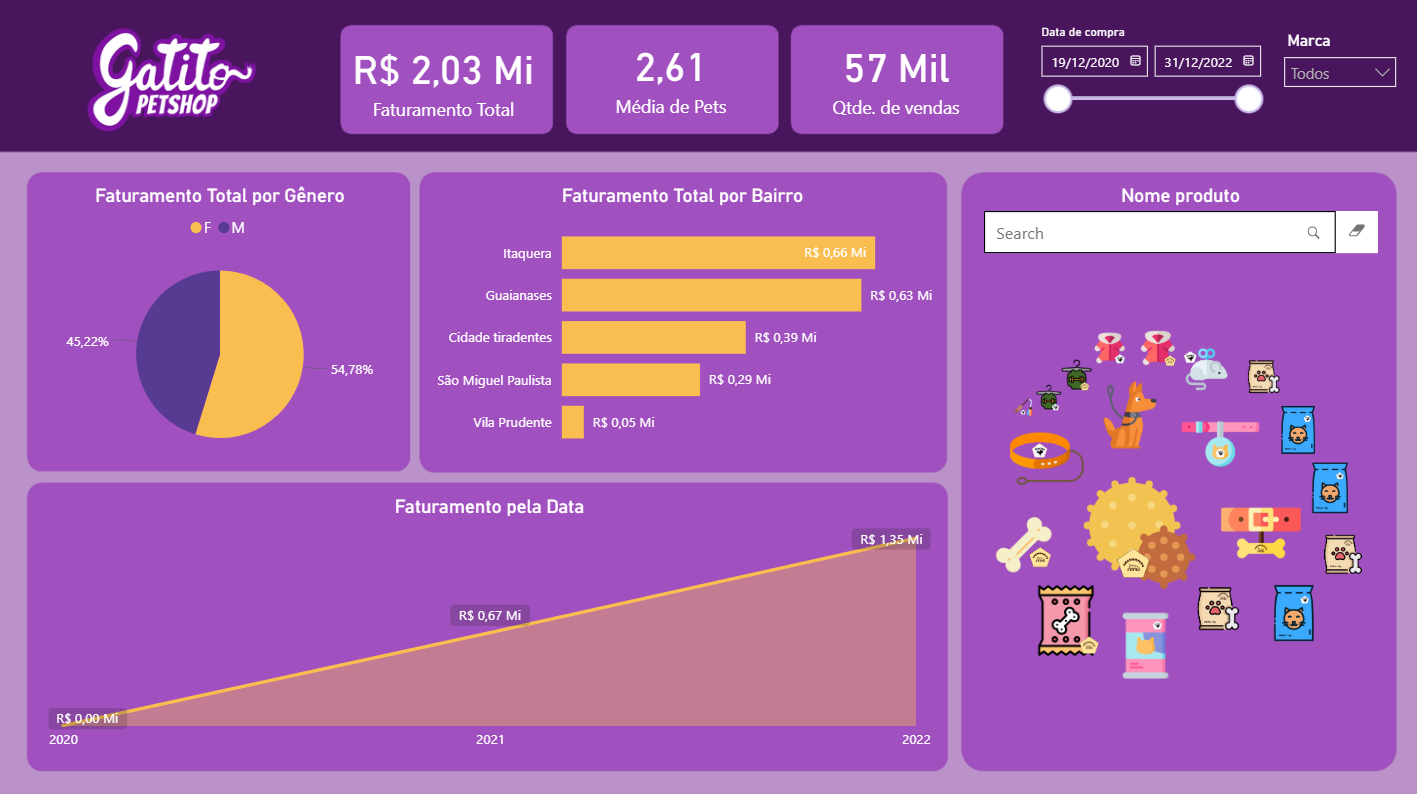

The page's visual inventory and layout, read from the dashboard file:
{"tool":"powerbi","page":{"name":"Página 1","canvas":[1280,720],"ordinal":0},"visuals":[{"type":"clusteredBarChart","fields":{"Category":["Clientes.Bairro"],"Y":["Vendas.Faturamento Total"]},"box":[382.2,167.1,469.6,250.6],"z":0},{"type":"card","fields":{"Values":["Sum(Vendas.Quantidade)"]},"box":[724.8,19.1,169.6,100.3],"z":1000},{"type":"card","fields":{"Values":["Vendas.Faturamento Total"]},"box":[306.5,29.6,190,82.7],"z":2000},{"type":"pieChart","fields":{"Category":["Clientes.Gênero"],"Y":["Vendas.Faturamento Total"]},"box":[32.6,167.1,335.1,259.3],"z":3000},{"type":"areaChart","title":"Faturamento pela Data","fields":{"Category":["Vendas.Data de compra.Variation.Hierarquia de datas.Ano","Vendas.Data de compra.Variation.Hierarquia de datas.Trimestre","Vendas.Data de compra.Variation.Hierarquia de datas.Mês","Vendas.Data de compra.Variation.Hierarquia de datas.Dia"],"Y":["Vendas.Faturamento Total"]},"box":[40.3,446.5,804.7,238.1],"z":4000},{"type":"ImageGrid_FC5183B9_926C_45E0_B5F7_0CE9EAF1DA9B","fields":{"ImageURL":["Produtos.Url img"]},"box":[871.9,226.6,384.1,458],"z":5000},{"type":"textFilter25A4896A83E0487089E2B90C9AE57C8A","fields":{"field":["Produtos.Nome produto"]},"box":[883.4,167.1,364.9,74.9],"z":6000},{"type":"slicer","fields":{"Values":["Produtos.Marca"]},"box":[1148.7,24.6,121.3,89.3],"z":7000},{"type":"slicer","fields":{"Values":["Vendas.Data de compra"]},"box":[927.2,18.2,221.5,104.8],"z":8000},{"type":"card","fields":{"Values":["Avg(Clientes.Pets)"]},"box":[515.9,25.5,181.8,86.8],"z":9000},{"type":"shape","box":[23.1,25.7,33.7,79.8],"z":9001}]}

Visuals, with their boxes in screenshot pixels (x1, y1, x2, y2), scaled from the page's 1280x720 canvas onto the 1417x794 screenshot:
clusteredBarChart - Clientes.Bairro x Vendas.Faturamento Total: (left=423, top=184, right=943, bottom=461)
card - Sum(Vendas.Quantidade): (left=802, top=21, right=990, bottom=132)
card - Vendas.Faturamento Total: (left=339, top=33, right=550, bottom=124)
pieChart - Clientes.Gênero x Vendas.Faturamento Total: (left=36, top=184, right=407, bottom=470)
"Faturamento pela Data" areaChart: (left=45, top=492, right=935, bottom=755)
ImageGrid_FC5183B9_926C_45E0_B5F7_0CE9EAF1DA9B - Produtos.Url img: (left=965, top=250, right=1390, bottom=755)
textFilter25A4896A83E0487089E2B90C9AE57C8A - Produtos.Nome produto: (left=978, top=184, right=1382, bottom=267)
slicer - Produtos.Marca: (left=1272, top=27, right=1406, bottom=126)
slicer - Vendas.Data de compra: (left=1026, top=20, right=1272, bottom=136)
card - Avg(Clientes.Pets): (left=571, top=28, right=772, bottom=124)
shape: (left=26, top=28, right=63, bottom=116)
